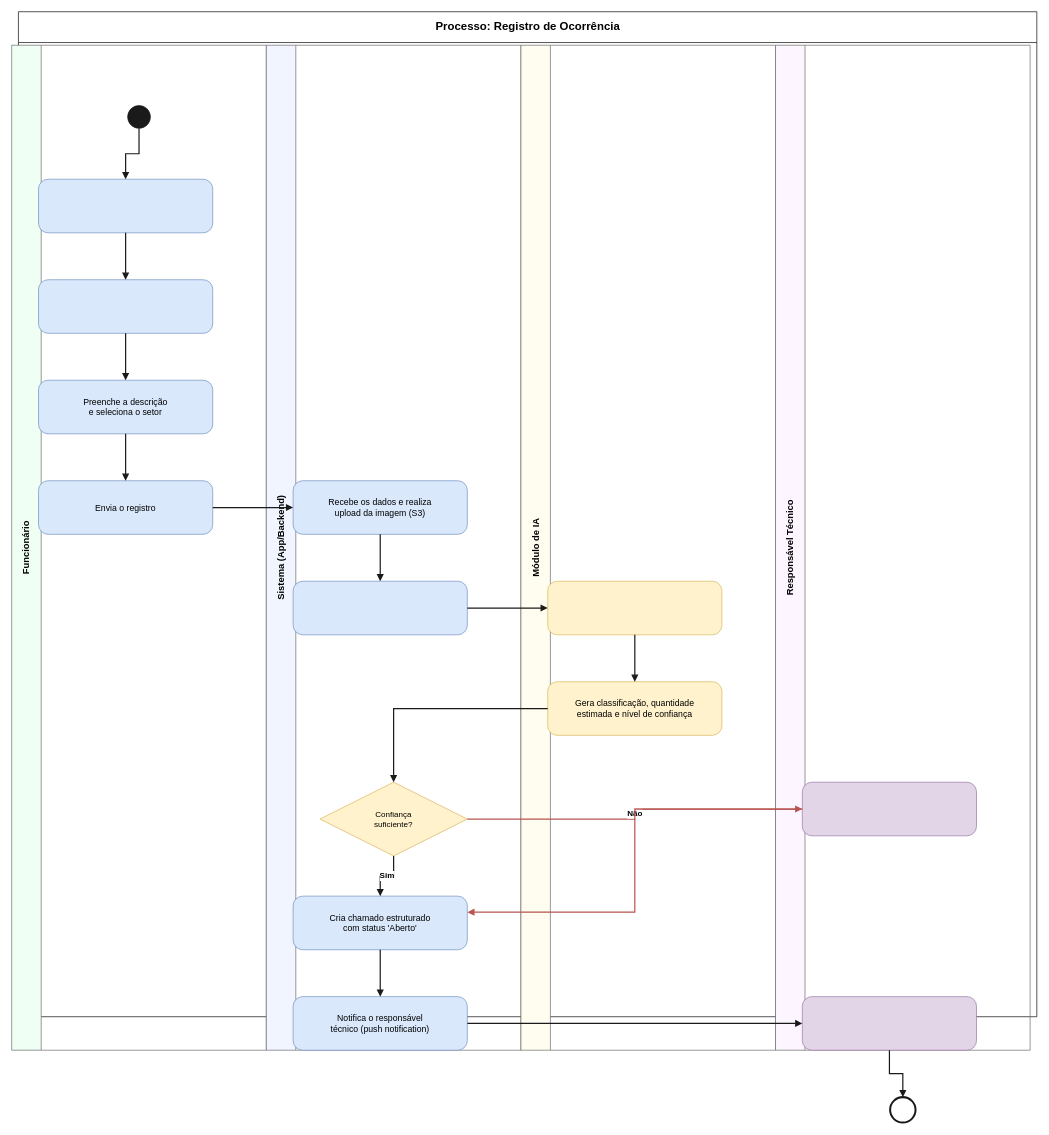
Some shapes in this 1049 by 1135 pixel diagram are drawn without their labels. Here are the shapes that lost their labels. From the top down, the centre of each, then its label:
At point 125,206: "Identifica ocorrência no chão de fábrica".
At point 125,306: "Abre o aplicativo e tira a foto do resíduo".
At point 379,608: "Encaminha imagem e descrição ao módulo de IA".
At point 634,608: "Analisa a imagem".
At point 889,809: "Recebe alerta para análise manual".
At point 889,1023: "Recebe o chamado na central de análise".
